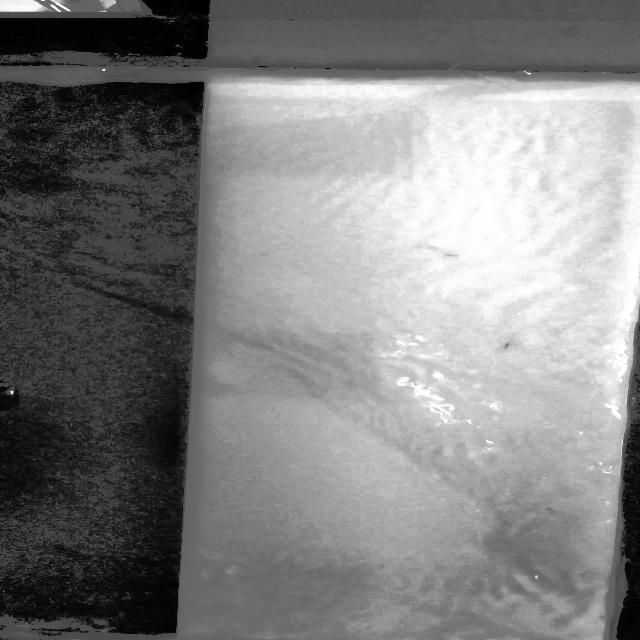shrimp: (417, 244, 469, 268), (490, 332, 521, 355)
